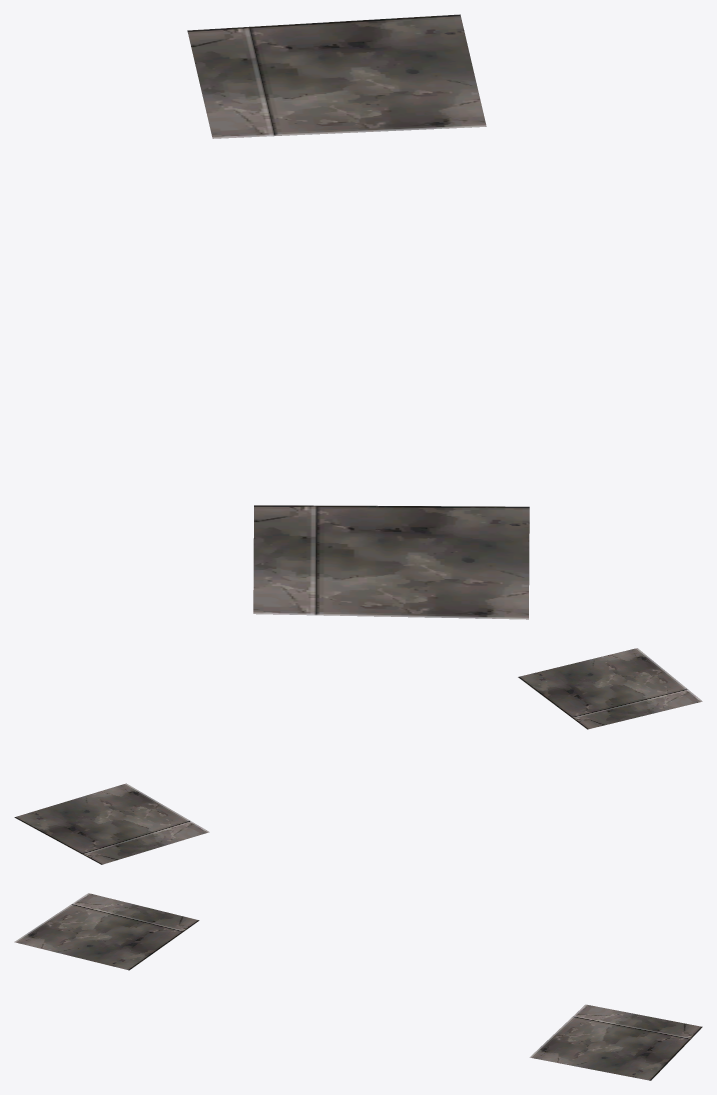
File: CH09_SMAUG_PLAYSURFACE_LAIR141.fbx
The picture shows the model from 3 angles, top to bottom: view 1: azimuth 30°, elevation 25°; view 2: azimuth 150°, elevation 25°; view 3: azimuth 270°, elevation 25°; orthographic projection. The views are drawn at different scales.
Parts seen in each view (by area): view 1: CH09_SMAUG_PLAYSURFACE_LAIR141; view 2: CH09_SMAUG_PLAYSURFACE_LAIR141; view 3: CH09_SMAUG_PLAYSURFACE_LAIR141.
Part boxes in pixels (bbox=[...]): CH09_SMAUG_PLAYSURFACE_LAIR141: bbox=[187, 14, 529, 619]; CH09_SMAUG_PLAYSURFACE_LAIR141: bbox=[14, 648, 702, 864]; CH09_SMAUG_PLAYSURFACE_LAIR141: bbox=[14, 893, 702, 1080].
Size of the model in its own units: 35502 by 0.0151 by 55037.
Materials: 1 (1 with a texture image).
